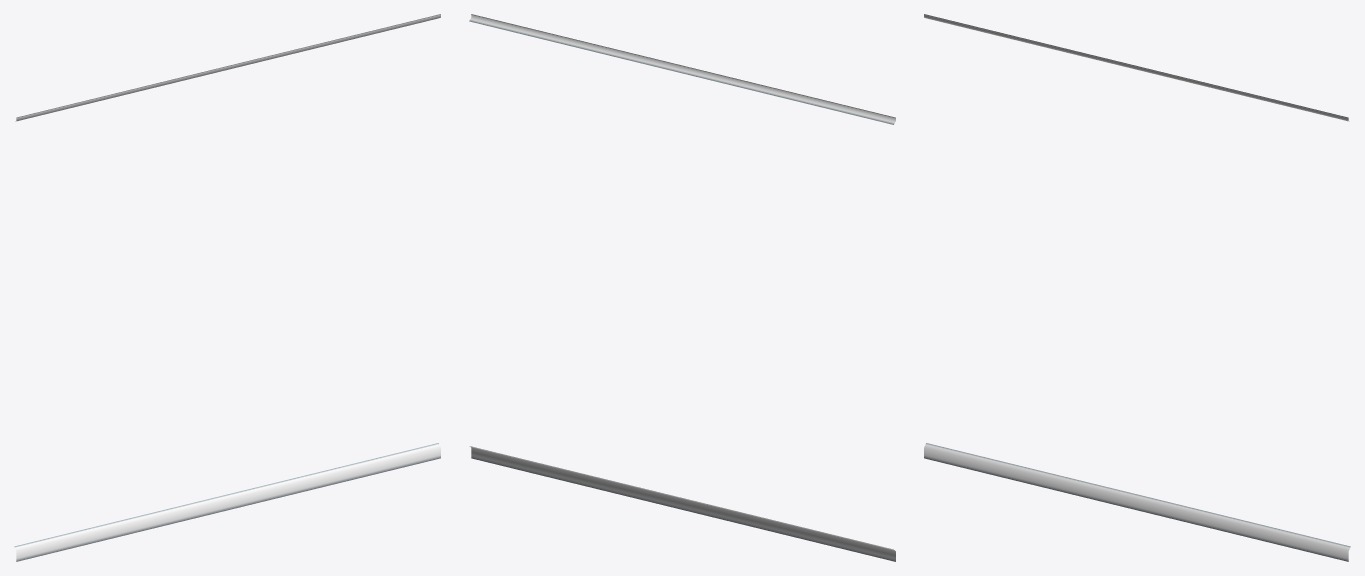
Rendered from waitingroom_flat_edge.dae.
The picture shows the model from 3 angles, left to right: view 1: azimuth 30°, elevation 25°; view 2: azimuth 150°, elevation 25°; view 3: azimuth 330°, elevation 25°; orthographic projection.
Visible parts, largest first — view 1: polySurface12; view 2: polySurface12; view 3: polySurface12.
Part boxes in pixels (bbox=[...]): polySurface12: bbox=[14, 14, 440, 561]; polySurface12: bbox=[469, 14, 895, 561]; polySurface12: bbox=[924, 14, 1350, 561].
Size of the model in its own units: 4 by 4 by 0.0341.
1 material, 1 textured.
